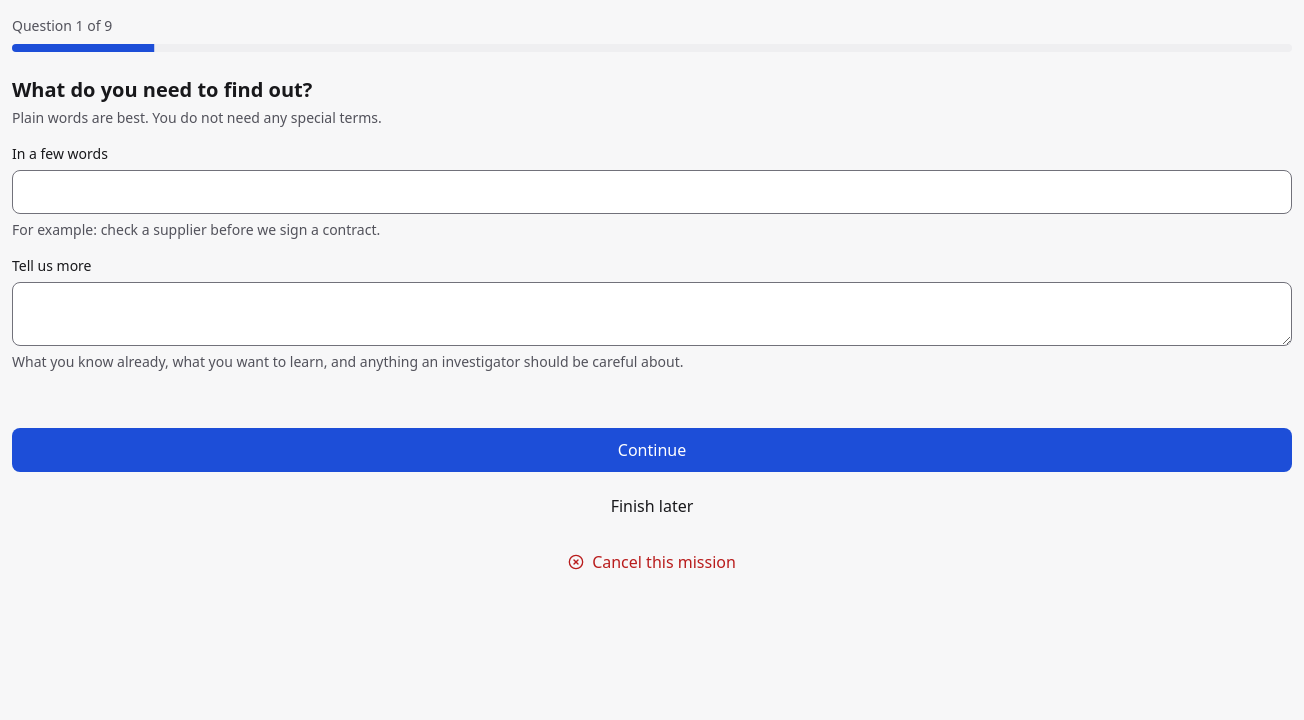
Test: mission intake › saving as the customer goes › treats no response at all as a failure it can say something about
This screenshot has width=1304, height=720.
In the field labelled "In a few words": (652,192) [12,170,1292,214], type "A"
Wait 800 ms
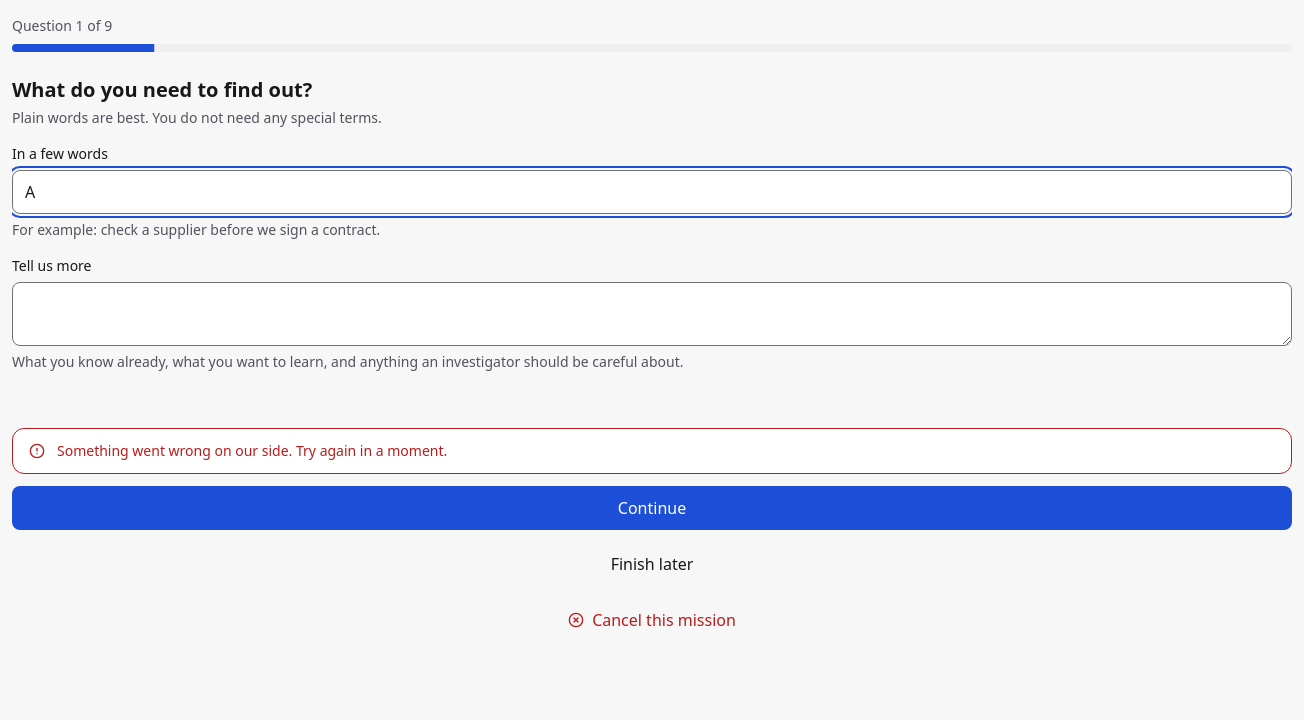
Expected: the message "Something went wrong on our side. Try again in a moment." is shown, [12,428,1292,474]
